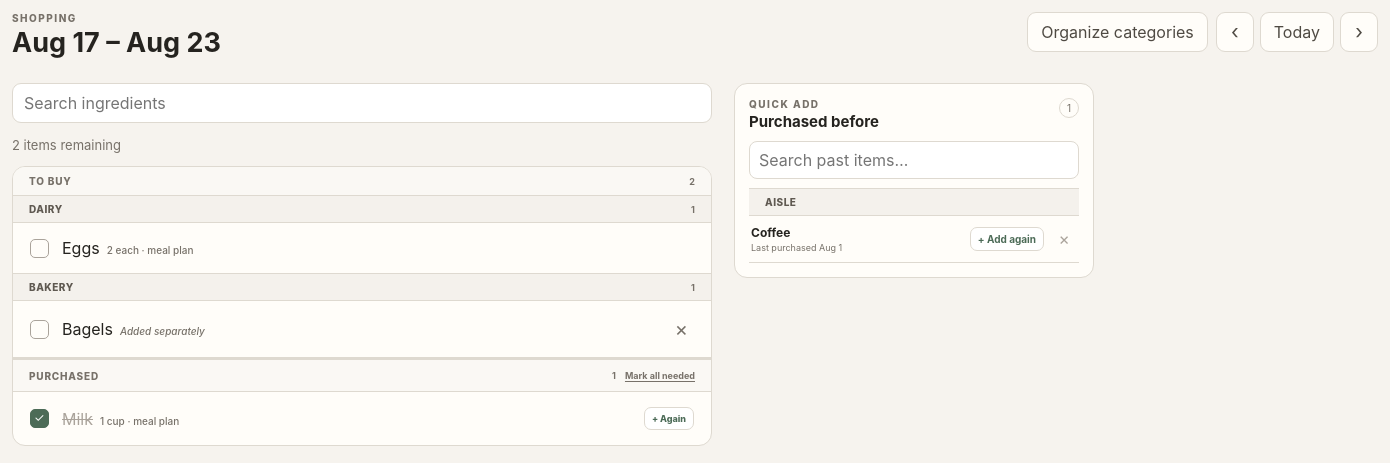
Test: ShoppingView › uses the shared picker keyboard selection and dismissal behavior
Type "milk" into the dropdown named "Add shopping list item". click: (362, 103)
box: [12,83,712,123]
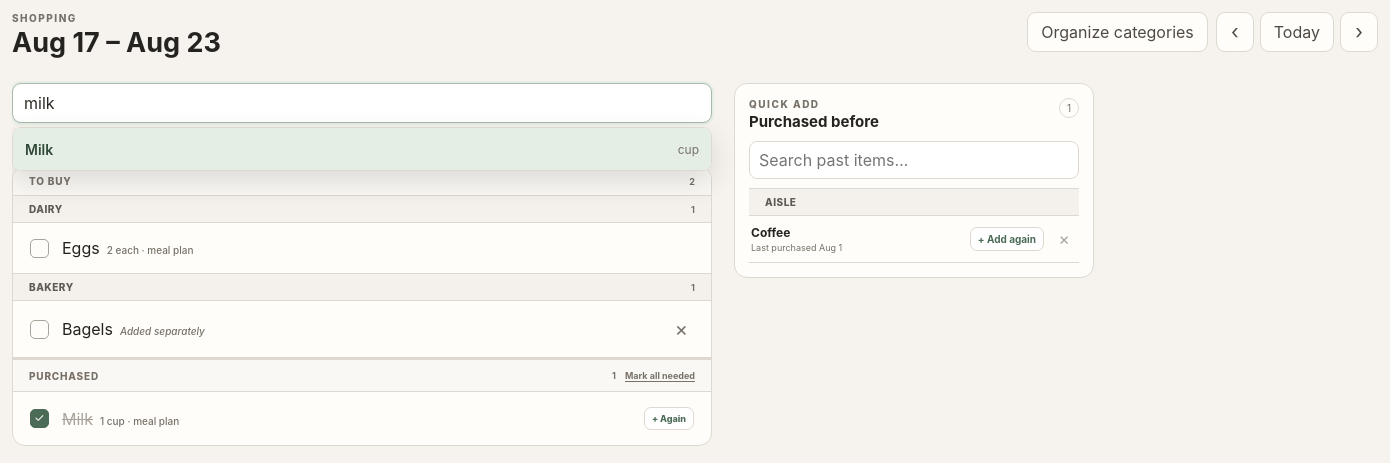
Press Enter
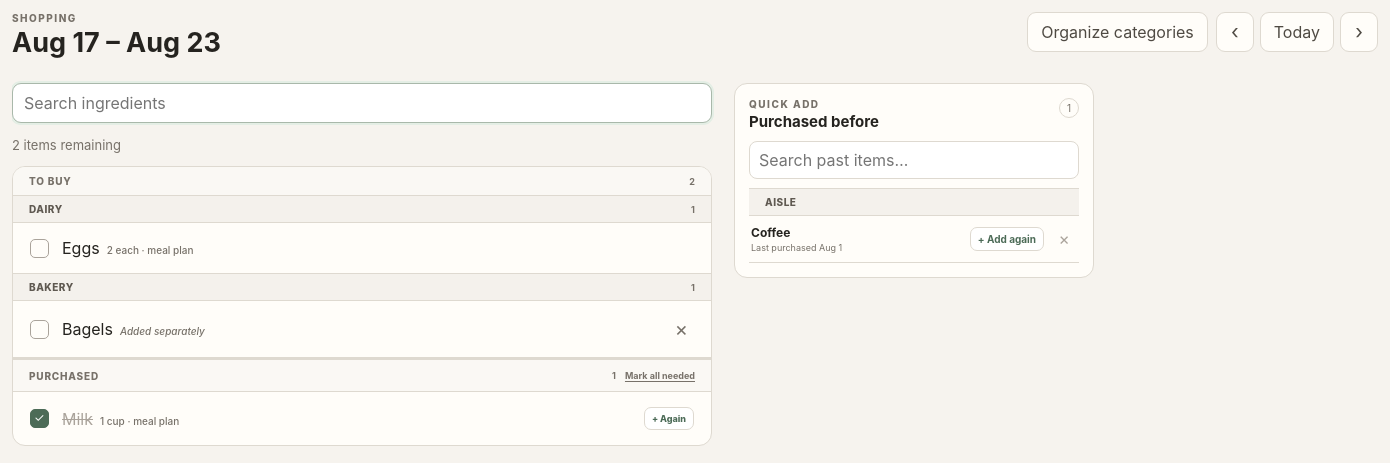
Type "bro" into the dropdown named "Add shopping list item". click: (362, 103)
box: [12,83,712,123]
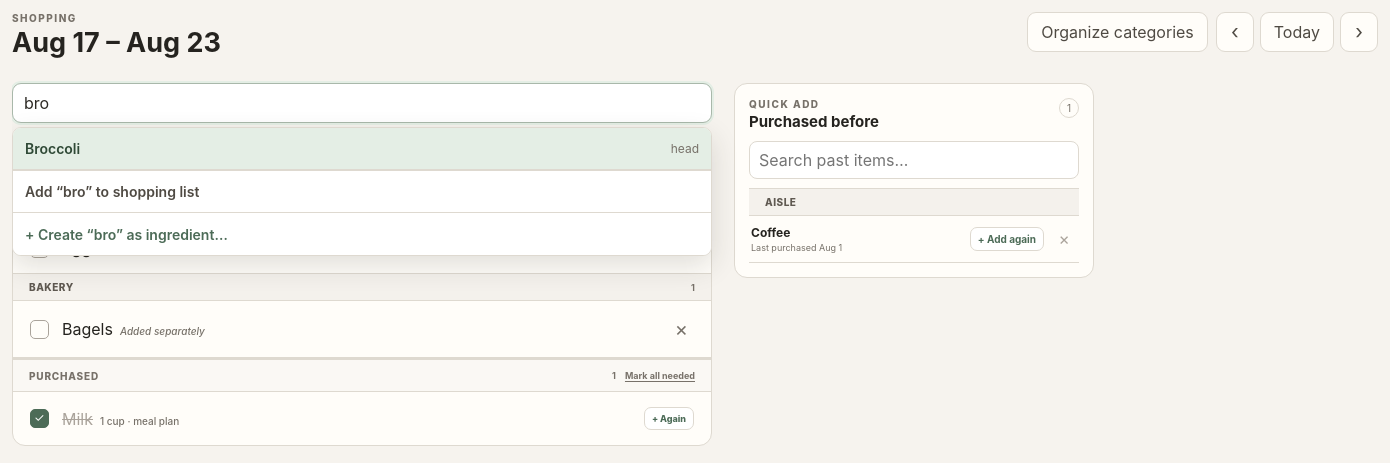
Expected: the option "Broccoli head" is shown, [13,128,711,170]
Press Escape
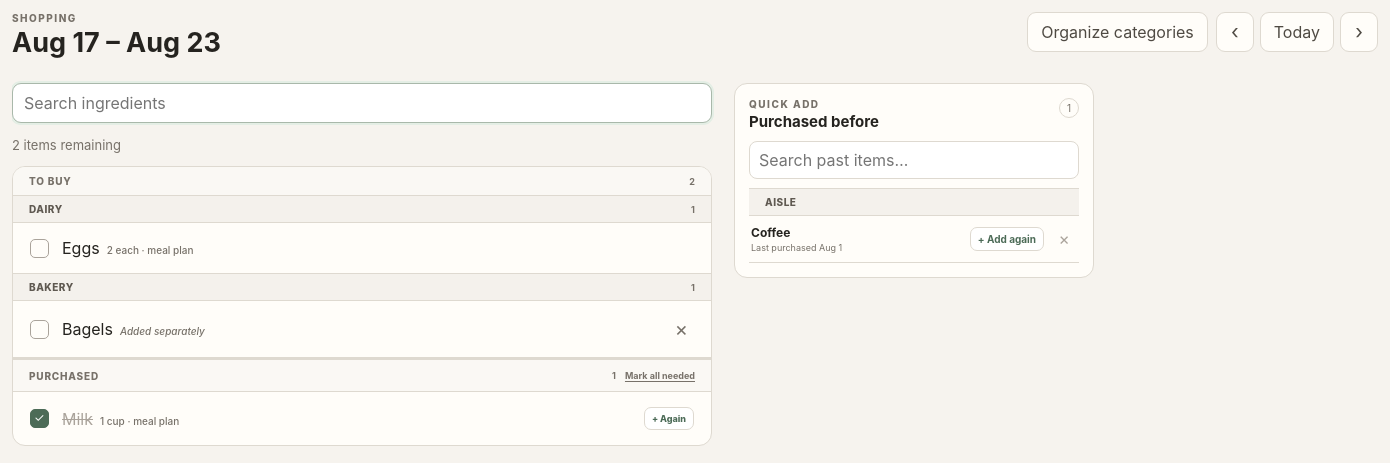
Expected: the list is gone
